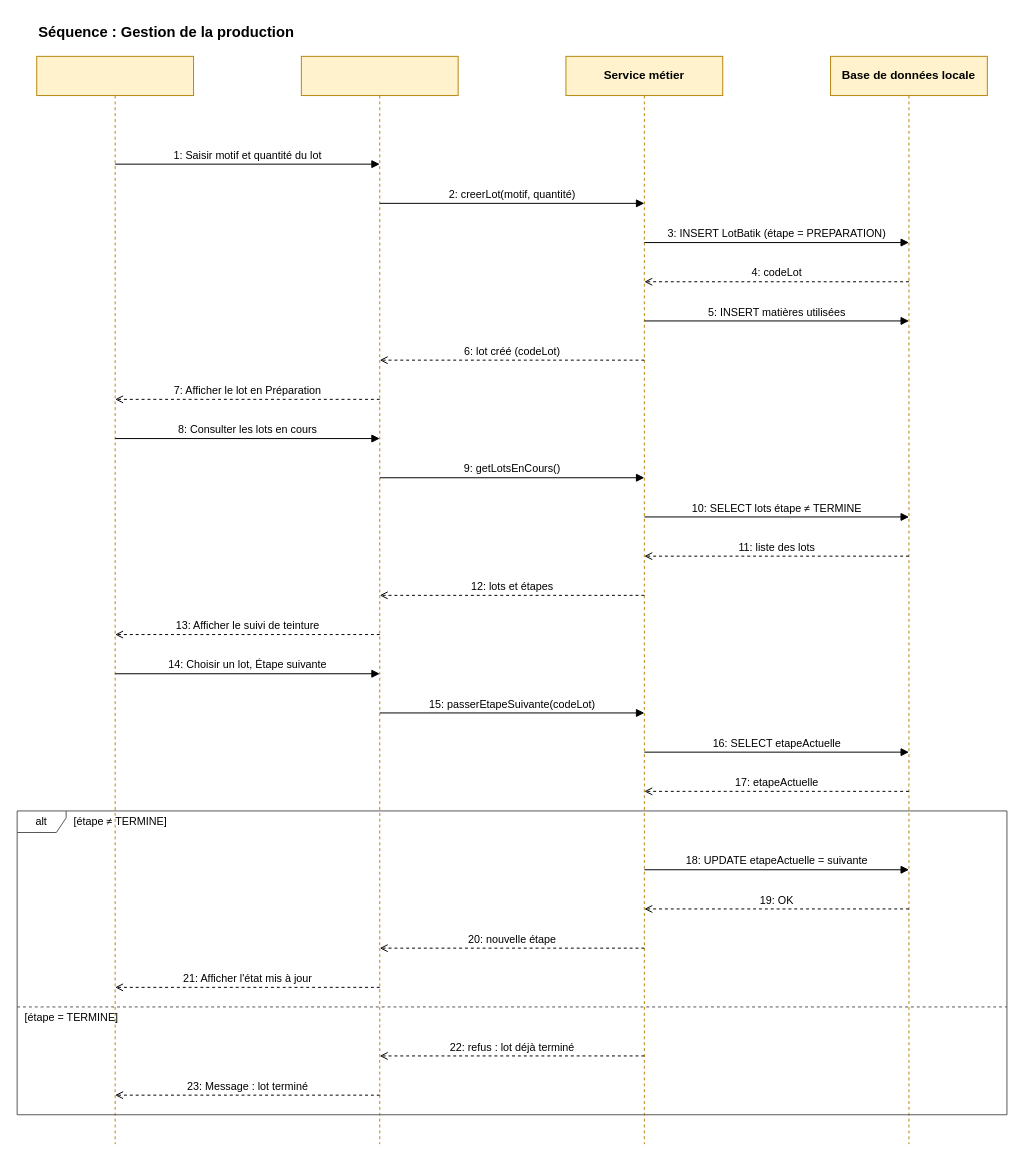
Image size: 1025x1161. Some labels were removed from this diagram. Here are the shapes that lost their labels. From the top down, the box of each, then its label:
(36, 55, 194, 1144): «acteur» Gérant
(300, 55, 458, 1144): Interface J.COCO
